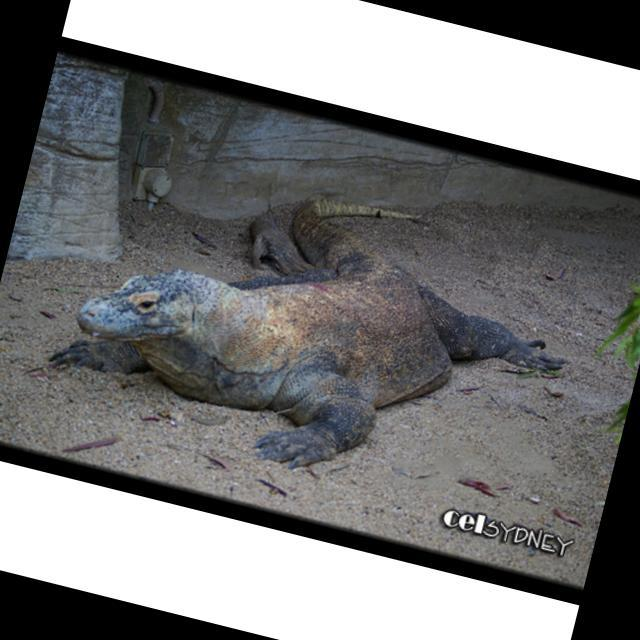KomodoDragon: (36, 131, 593, 528)
